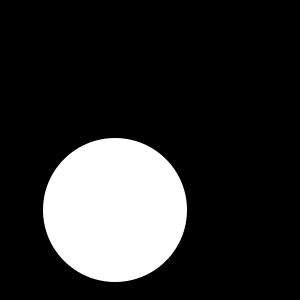rectangle: (43, 138, 187, 282)
